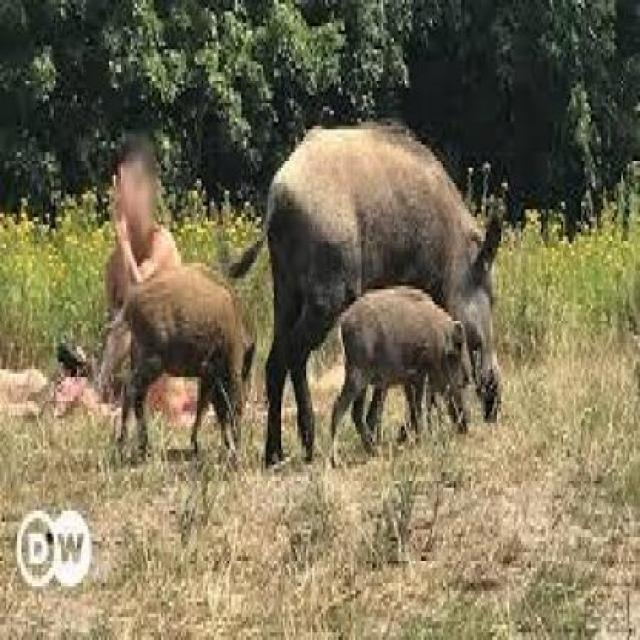Wild Boar: (231, 112, 512, 478), (95, 267, 258, 476), (324, 276, 479, 475)
